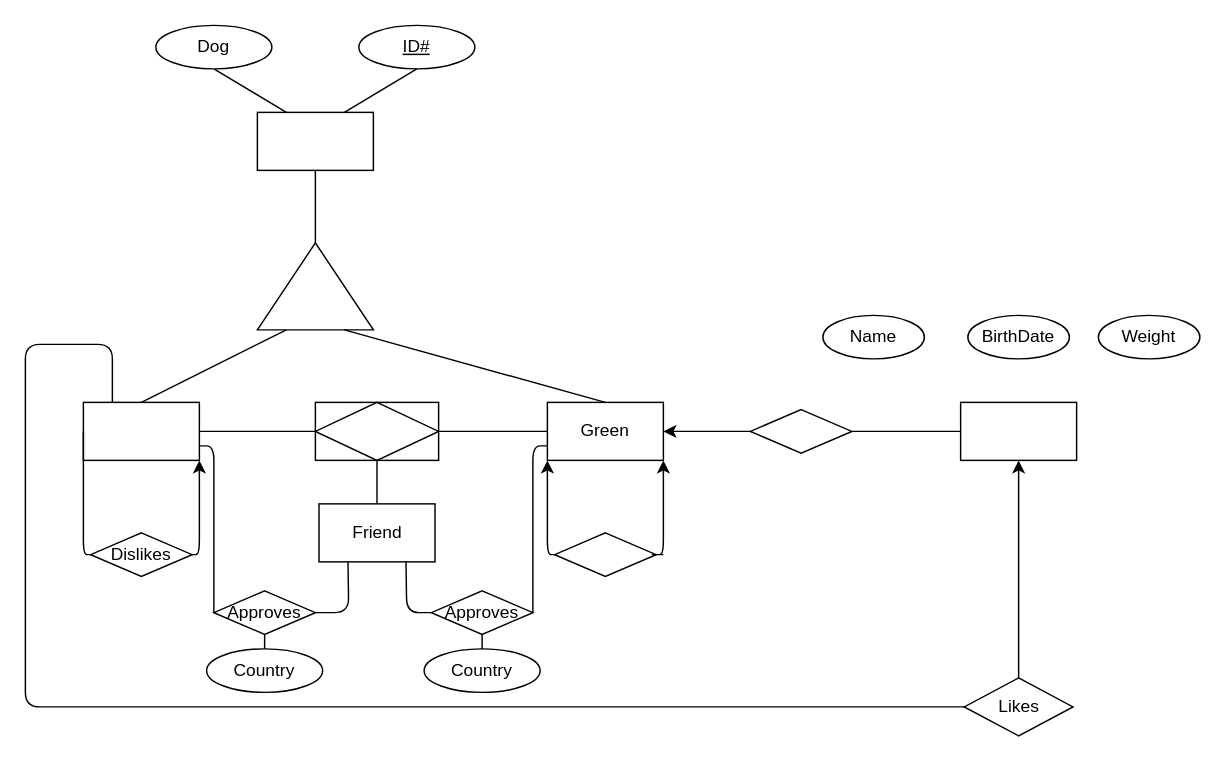
Some shapes in this 1225 by 761 pixel diagram are drawn without their labels. The shapes that lost their labels are listed below. From the top down, each one's box as (x1, y1, x2, y2) in pixels, then its label:
(256, 111, 373, 170): Person
(82, 401, 199, 460): Blue
(314, 401, 439, 460): Together
(749, 408, 852, 453): Belongs
(959, 401, 1077, 460): Cat
(553, 531, 656, 576): Manages
